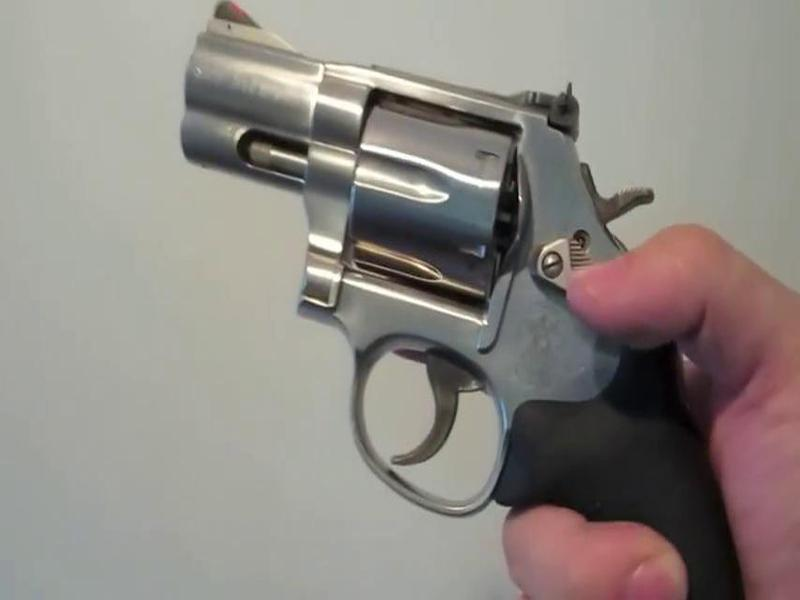Revolver: (167, 1, 763, 599)
